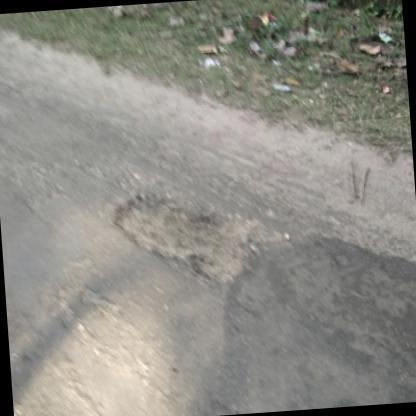pothole: (117, 190, 256, 282)
